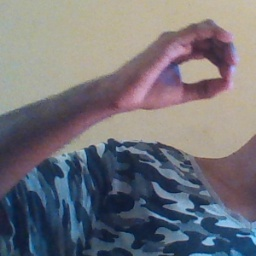O: (120, 14, 244, 114)
